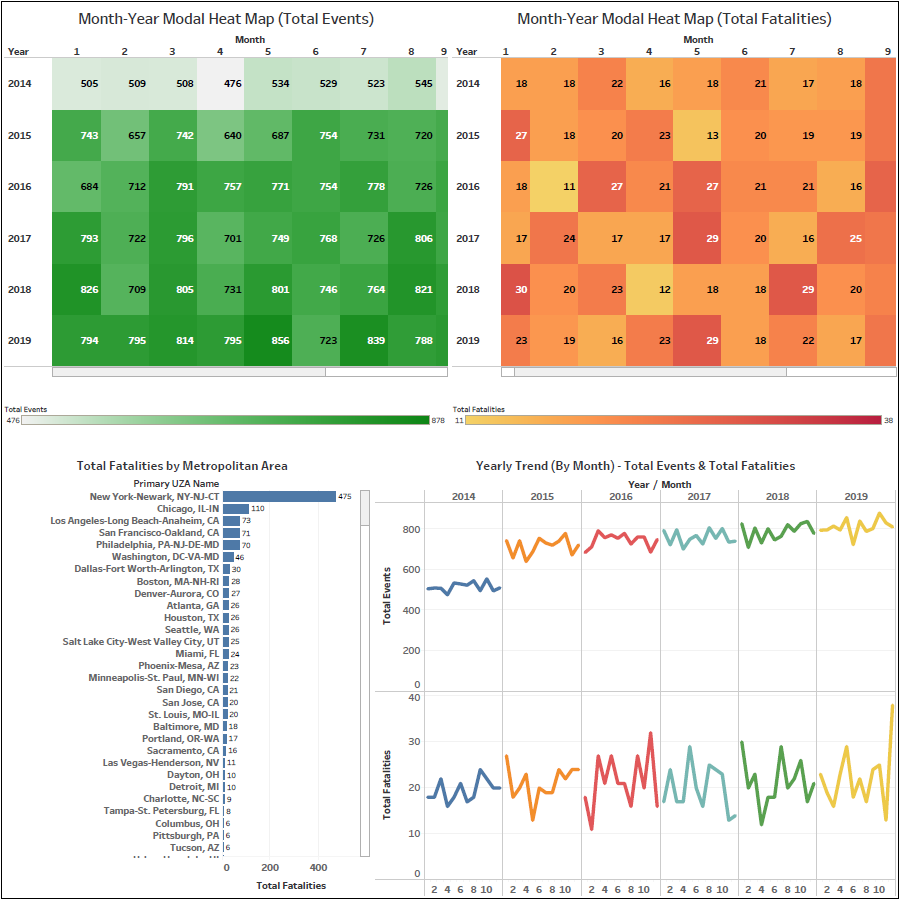

This screenshot's page, from the dashboard's own definition file:
{"tool":"tableau","page":{"name":"Final Dashboard","canvas":[1500,1500],"ordinal":0},"visuals":[{"type":"worksheet","title":"Month-Year Modal Heat Map (Total Events)","mark":"Square","rows":["Year"],"cols":["Month"],"box":[9,9,741,656]},{"type":"worksheet","title":"Month-Year Modal Heat Map (Total Fatalities)","mark":"Square","rows":["Year"],"cols":["Month"],"box":[750,9,741,656]},{"type":"legend","title":"Month-Year Modal Heat Map (Total Events)","param":"[federated.0mozsrz1xkome112fc4xm0ay1sm5].[sum:Total Events:qk]","box":[9,665,741,85]},{"type":"legend","title":"Month-Year Modal Heat Map (Total Fatalities)","param":"[federated.0mozsrz1xkome112fc4xm0ay1sm5].[sum:Total Fatalities:qk]","box":[750,665,741,85]},{"type":"worksheet","title":"Total Fatalities by Metropolitan Area","mark":"Automatic","rows":["Primary UZA Name"],"cols":["Total Fatalities"],"box":[9,750,613,741]},{"type":"worksheet","title":"Yearly Trend (By Month) - Total Events & Total Fatalities","mark":"Automatic","rows":["Total Events","Total Fatalities"],"cols":["Year","Month"],"box":[622,750,869,741]}]}

Visuals, with their boxes in screenshot pixels (x1, y1, x2, y2), scaled from the page's 1500x1500 canvas onto the 904x902 screenshot:
"Month-Year Modal Heat Map (Total Events)" worksheet (Square marks): crop(5, 5, 452, 400)
"Month-Year Modal Heat Map (Total Fatalities)" worksheet (Square marks): crop(452, 5, 899, 400)
"Month-Year Modal Heat Map (Total Events)" legend: crop(5, 400, 452, 451)
"Month-Year Modal Heat Map (Total Fatalities)" legend: crop(452, 400, 899, 451)
"Total Fatalities by Metropolitan Area" worksheet: crop(5, 451, 375, 897)
"Yearly Trend (By Month) - Total Events & Total Fatalities" worksheet: crop(375, 451, 899, 897)
